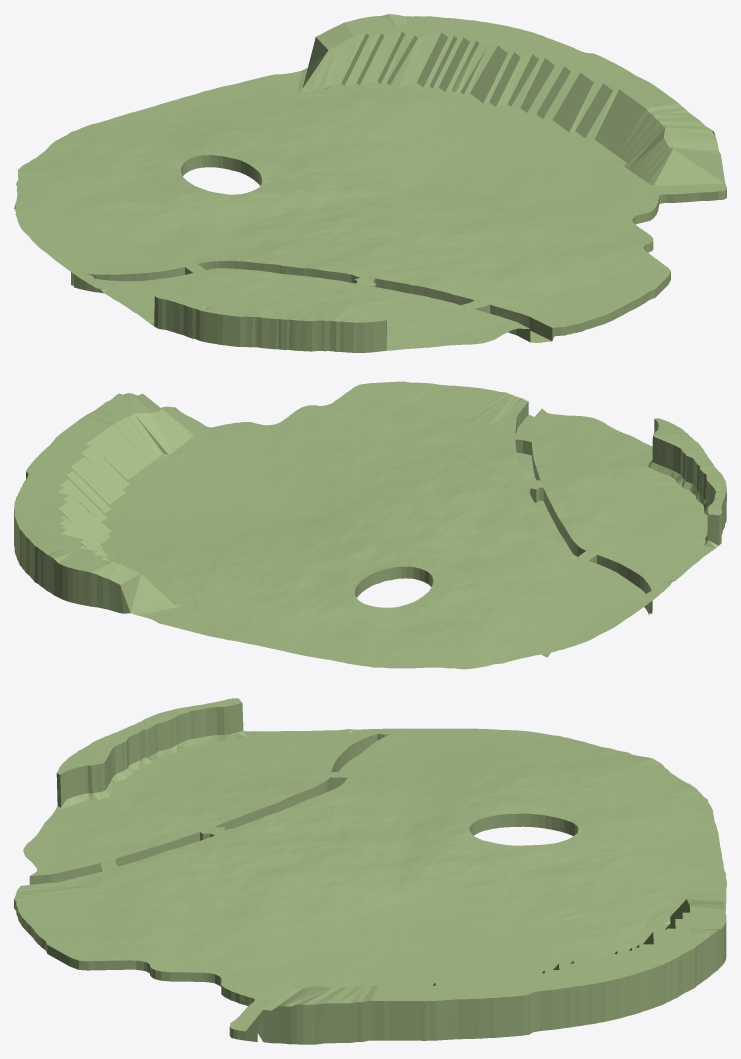
Rendered from landscape.glb.
3 renders of one model, top to bottom at view 1: azimuth 30°, elevation 25°; view 2: azimuth 150°, elevation 25°; view 3: azimuth 270°, elevation 25°, orthographic. The views are drawn at different scales.
Parts seen in each view (by area): view 1: Landscape.001; view 2: Landscape.001; view 3: Landscape.001.
Part boxes in pixels (x1,y1,x2,y2): Landscape.001: [14, 14, 726, 352]; Landscape.001: [14, 381, 726, 669]; Landscape.001: [14, 698, 726, 1044].
Bounding box in the file's own units: 37.51 × 3.14 × 36.34.
